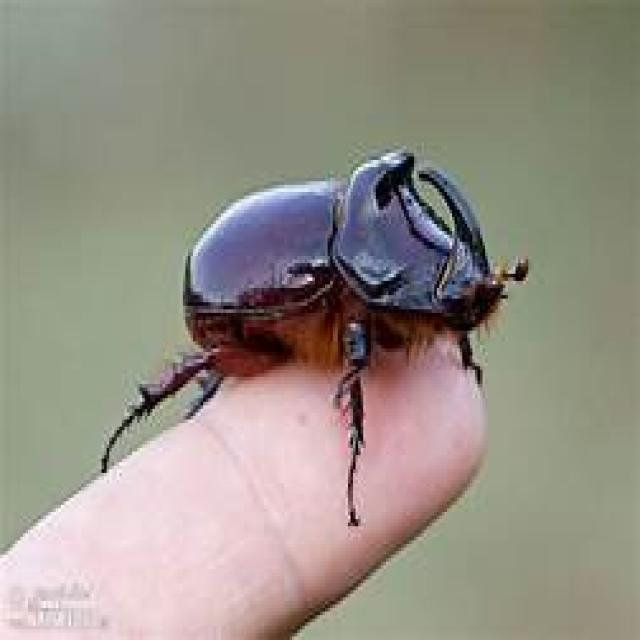Rhino-beetle: (116, 138, 541, 392)
